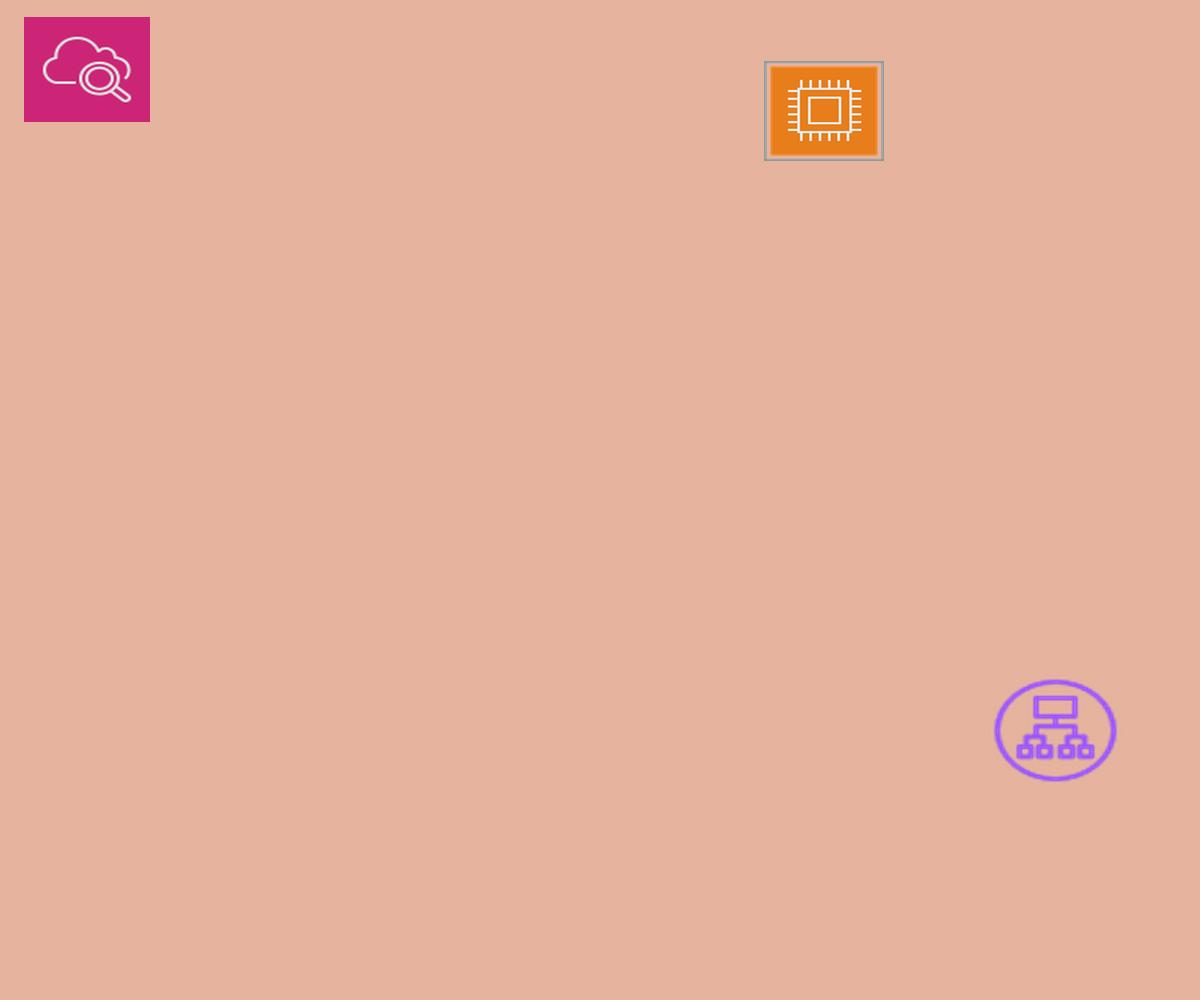AWS-Category_Compute: (764, 61, 884, 161)
AWS-CloudWatch: (24, 17, 150, 122)
AWS-Res_Elastic-Load-Balancing_Application-Load-Balancer: (989, 675, 1122, 786)
